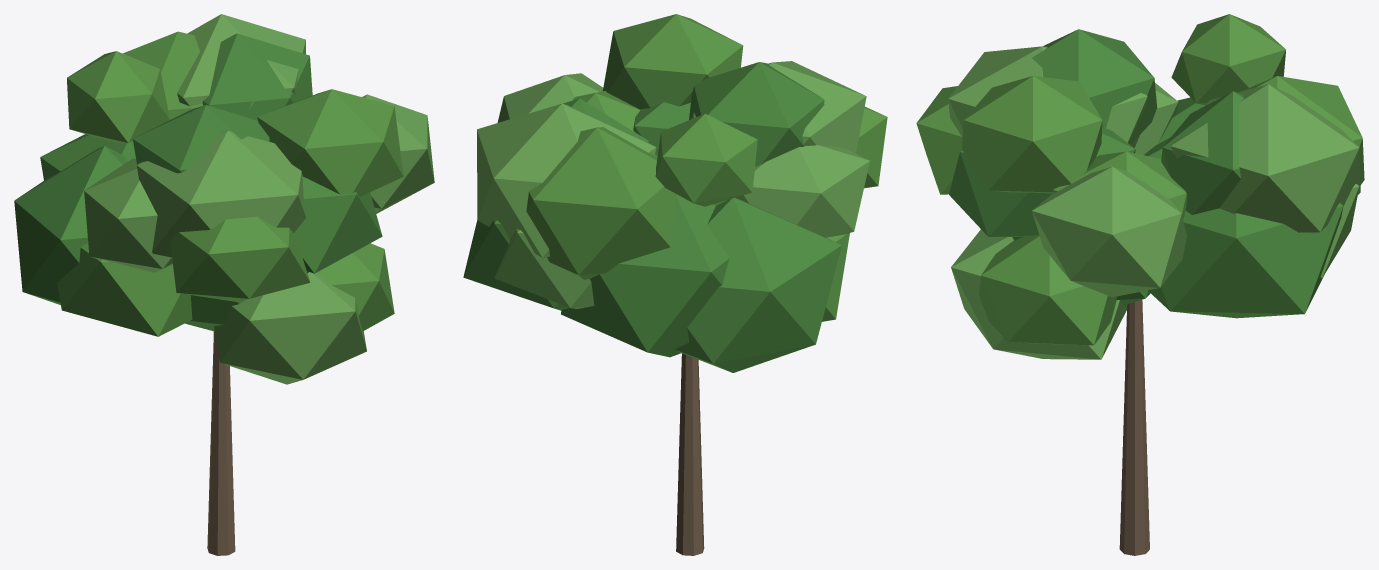
File: broadleaf_l.glb
3 views of the same model, side by side, from view 1: azimuth 30°, elevation 25°; view 2: azimuth 150°, elevation 25°; view 3: azimuth 270°, elevation 25° (orthographic). The views are drawn at different scales.
Parts seen in each view (by area): view 1: broadleaf_l; view 2: broadleaf_l; view 3: broadleaf_l.
Part boxes in pixels (x1=…): broadleaf_l: x1=14, y1=14, x2=434, y2=555; broadleaf_l: x1=463, y1=14, x2=887, y2=555; broadleaf_l: x1=916, y1=14, x2=1364, y2=555.
Bounding box in the file's own units: 11.99 × 15.44 × 12.4.
